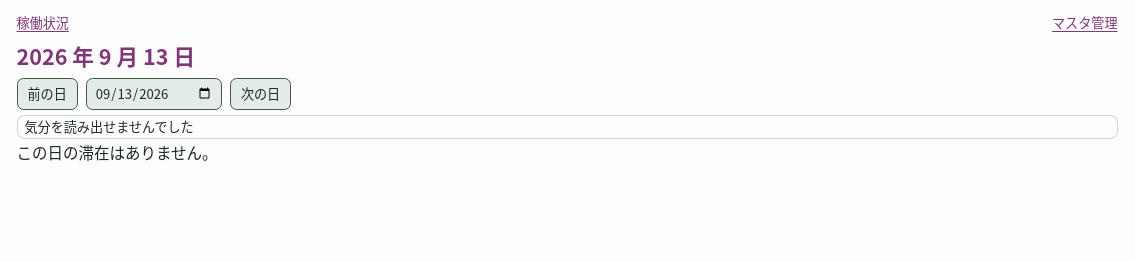
Test: 日を移る › 9 月 13 日から前の日へ移ると 9 月 12 日の一覧
expect the text "この日の滞在はありません。" is shown: met, box top-left (16, 141), bottom-right (218, 163)
Step 1. Click the button "前の日" → [47, 94], box top-left (16, 78), bottom-right (78, 110)
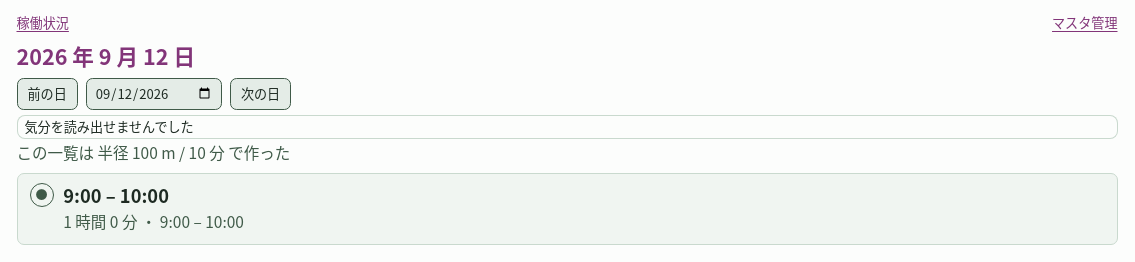
expect the heading with test id "day-title" shows "9 月 12 日": met, box top-left (16, 40), bottom-right (195, 71)
expect the number of list items with test id "row-stay" is 1: met, box top-left (16, 173), bottom-right (1118, 245)
